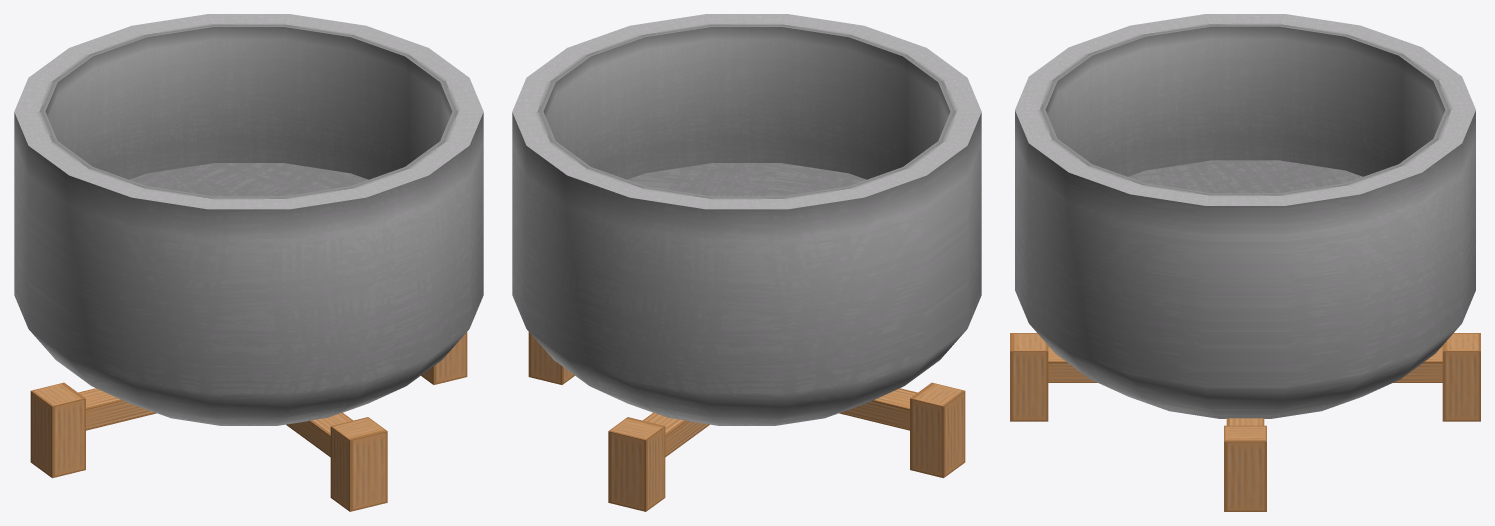
File: CementPlanterHand.fbx
3 views of the same model, side by side, from view 1: azimuth 30°, elevation 25°; view 2: azimuth 150°, elevation 25°; view 3: azimuth 270°, elevation 25° (orthographic).
Visible parts, largest first — view 1: Item; view 2: Item; view 3: Item.
Boxes of the visible parts, left/top/right/bottom form: Item: left=14, top=14, right=483, bottom=511; Item: left=512, top=14, right=981, bottom=511; Item: left=1010, top=14, right=1480, bottom=511.
Size of the model in its own units: 0.7217 by 0.5116 by 0.7217.
